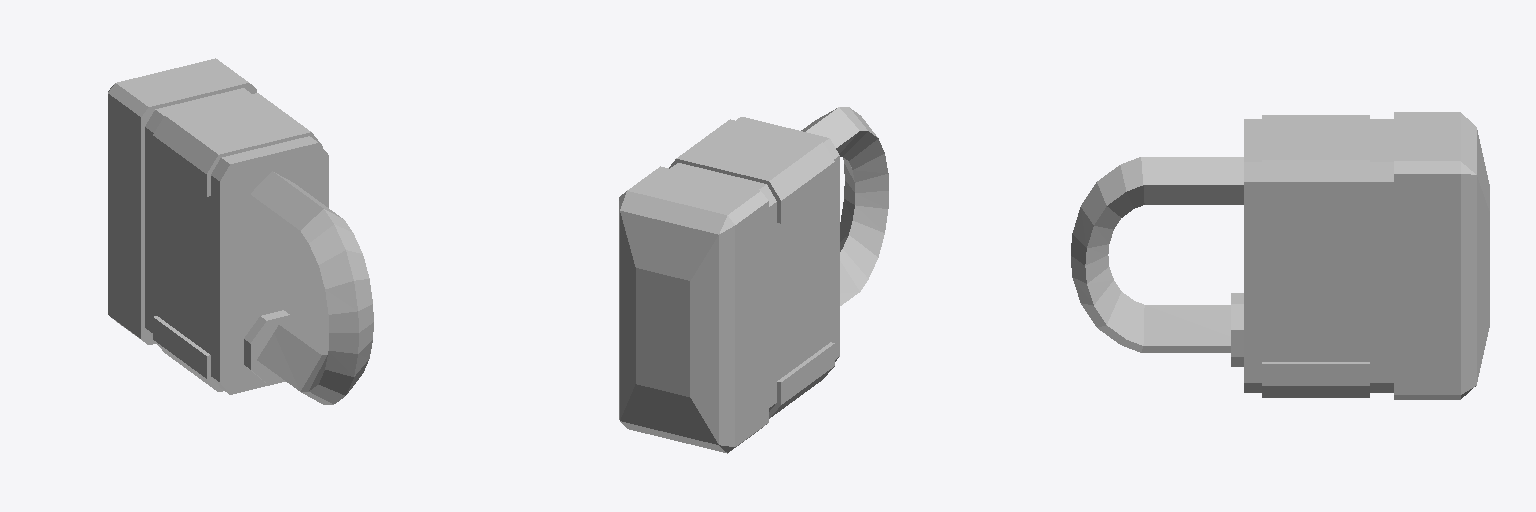
Rendered from padlock1.obj.
3 views of the same model, side by side, from view 1: azimuth 30°, elevation 25°; view 2: azimuth 150°, elevation 25°; view 3: azimuth 270°, elevation 25° (orthographic).
Visible parts, largest first — view 1: padlock1; view 2: padlock1; view 3: padlock1.
Boxes of the visible parts, x1=… form: padlock1: x1=108, y1=58, x2=373, y2=404; padlock1: x1=619, y1=107, x2=888, y2=453; padlock1: x1=1071, y1=112, x2=1489, y2=399.
Size of the model in its own units: 3.77 by 7.38 by 11.76.